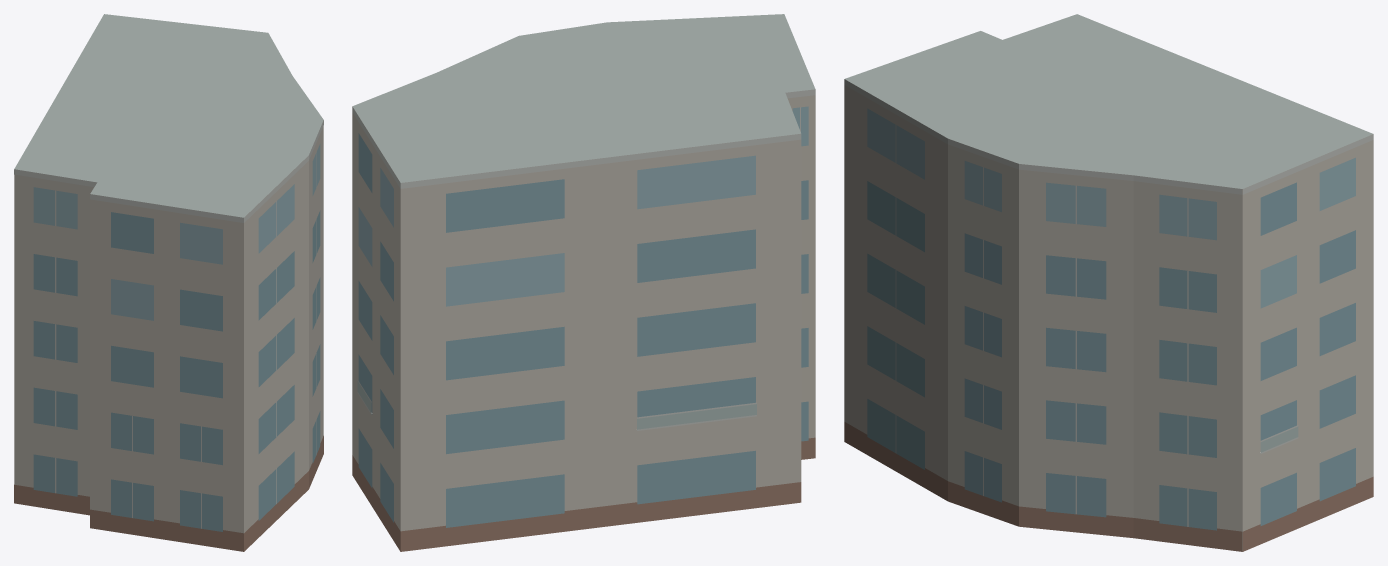
The model's file is survey-upis-33006173.glb.
3 views of the same model, side by side, from view 1: azimuth 30°, elevation 25°; view 2: azimuth 150°, elevation 25°; view 3: azimuth 270°, elevation 25° (orthographic). The views are drawn at different scales.
Parts seen in each view (by area): view 1: survey-upis-33006173.tmp; view 2: survey-upis-33006173.tmp; view 3: survey-upis-33006173.tmp.
Part boxes in pixels (<box>): survey-upis-33006173.tmp: <box>14,14,323,551</box>; survey-upis-33006173.tmp: <box>352,14,815,551</box>; survey-upis-33006173.tmp: <box>844,14,1373,551</box>.
Bounding box in the file's own units: 15.79 × 15.25 × 20.17.
